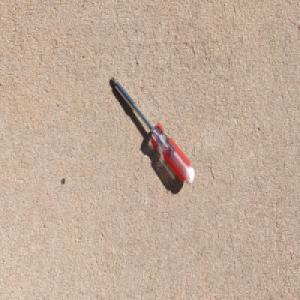Screwdriver: (109, 75, 195, 187)
